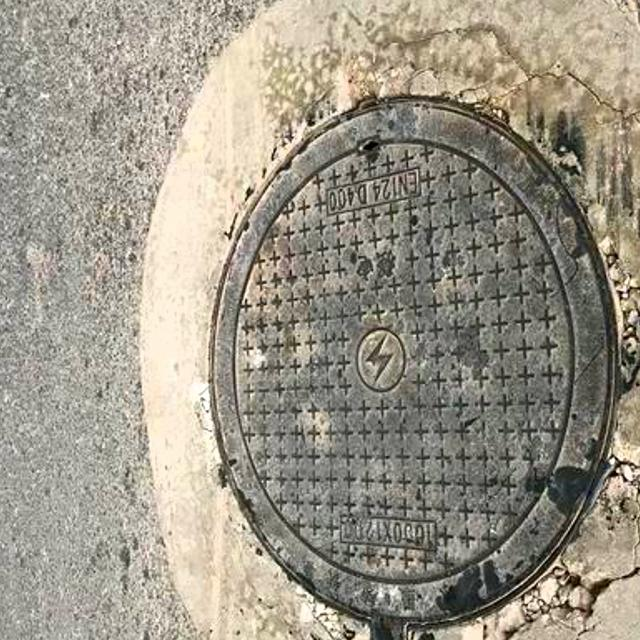circle: (143, 0, 640, 640)
